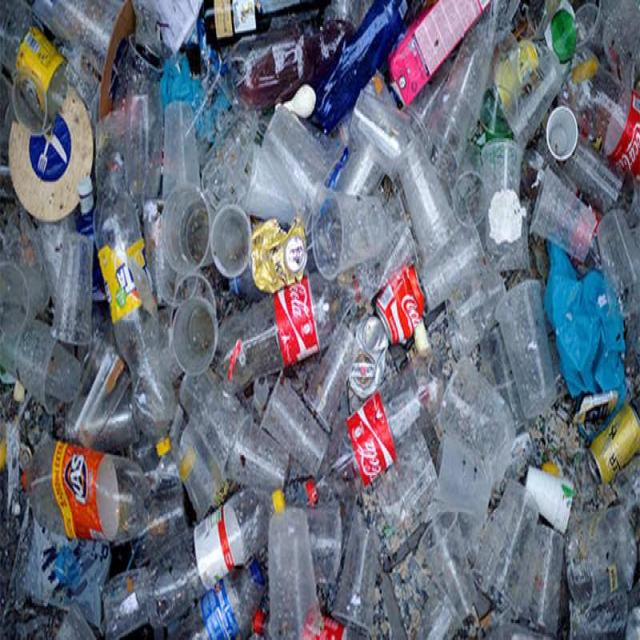heap: (3, 1, 640, 640)
plastic_bottle: (293, 361, 452, 501), (94, 185, 175, 458), (203, 281, 369, 377), (23, 440, 146, 542), (499, 282, 556, 418), (265, 509, 323, 639), (310, 185, 387, 279), (531, 170, 594, 264), (431, 434, 498, 519), (170, 290, 222, 378), (166, 185, 213, 276)
